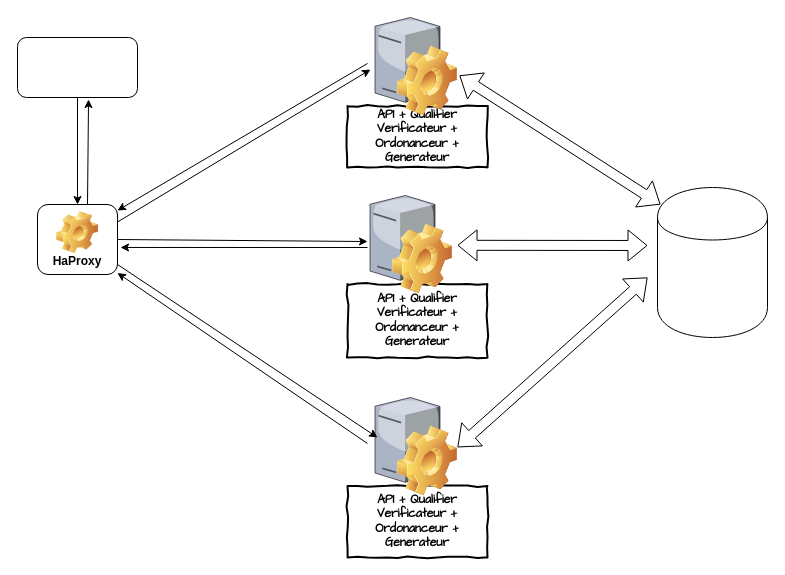
Some shapes in this 785 by 575 pixel diagram are drawn without their labels. Each missing label, with the box of its shape:
BDD: (656, 186, 768, 338)
Reuettes HTTP: (16, 36, 138, 98)
